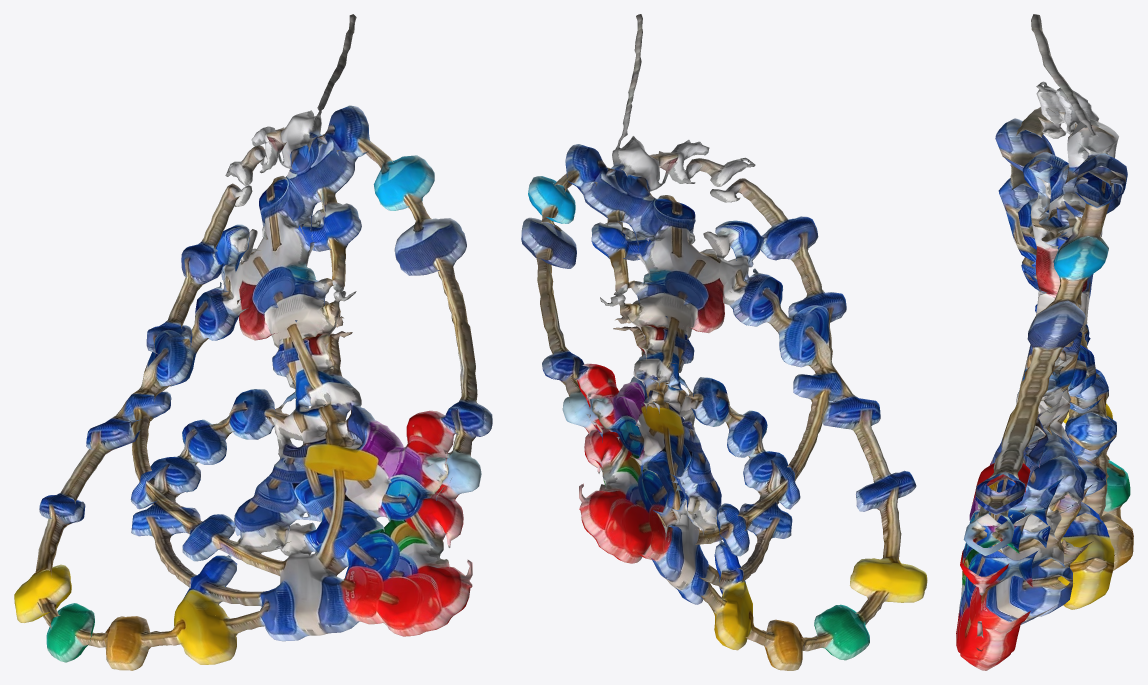
File: hy3d-mov-028.glb
The picture shows the model from 3 angles, left to right: view 1: azimuth 30°, elevation 25°; view 2: azimuth 150°, elevation 25°; view 3: azimuth 270°, elevation 25°; orthographic projection. The views are drawn at different scales.
Parts seen in each view (by area): view 1: world; view 2: world; view 3: world.
Part boxes in pixels (left/top/right/bottom): world: left=14, top=14, right=492, bottom=670; world: left=521, top=14, right=927, bottom=670; world: left=956, top=14, right=1133, bottom=670.
Bounding box in the file's own units: 1.57 × 2.15 × 0.5299.
Materials: 1 (1 with a texture image).
